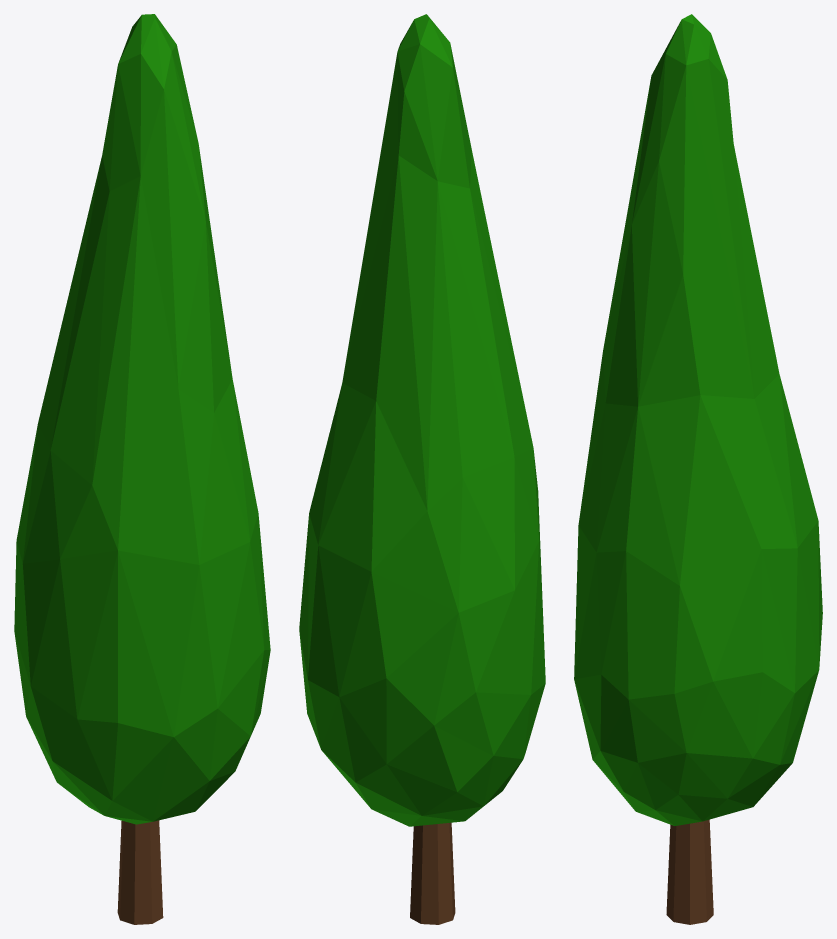
The model's file is cypressTreeB.fbx.
3 renders of one model, left to right at view 1: azimuth 30°, elevation 25°; view 2: azimuth 150°, elevation 25°; view 3: azimuth 270°, elevation 25°, orthographic.
Visible parts, largest first — view 1: cypressTreeB_geo; view 2: cypressTreeB_geo; view 3: cypressTreeB_geo.
Boxes of the visible parts, x1,y1,x2,y2 form: cypressTreeB_geo: [14, 14, 270, 924]; cypressTreeB_geo: [299, 14, 545, 924]; cypressTreeB_geo: [574, 14, 822, 924].
Size of the model in its own units: 181 by 711 by 178.
